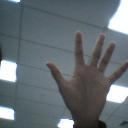hand: (45, 29, 128, 128)
